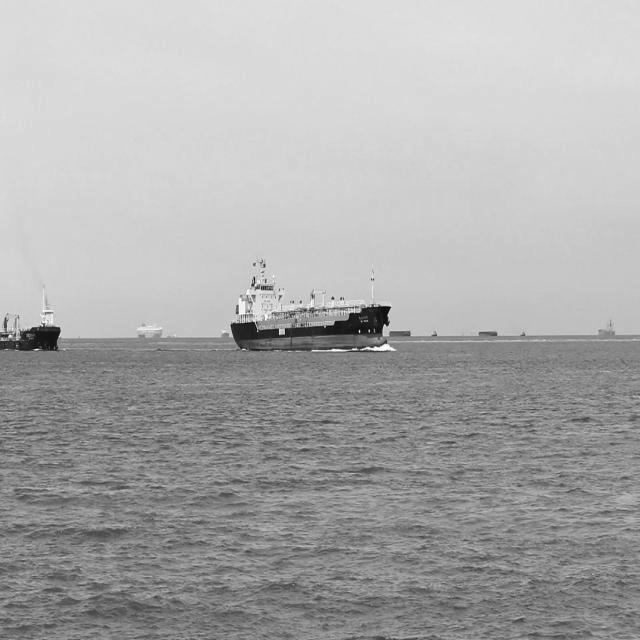ship: (229, 254, 393, 353), (0, 280, 62, 352), (134, 322, 163, 341), (40, 300, 60, 326), (598, 316, 618, 341)
